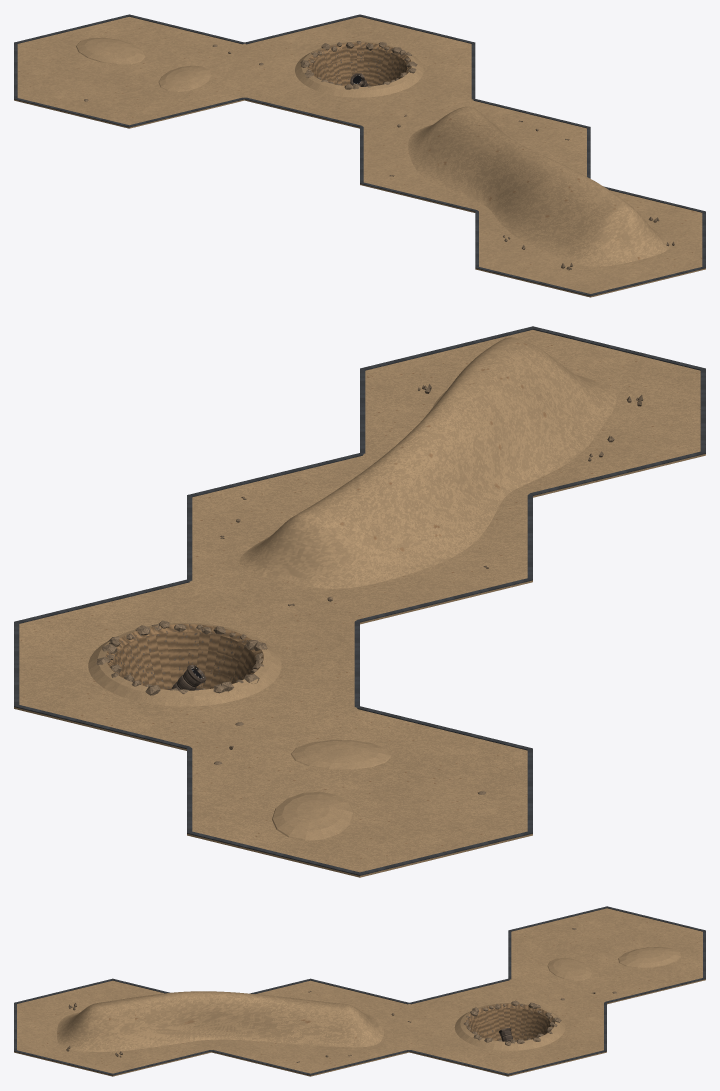
File: WasteHex_Snake.glb
3 views of the same model, one above another, from view 1: azimuth 30°, elevation 25°; view 2: azimuth 150°, elevation 25°; view 3: azimuth 270°, elevation 25° (orthographic). The views are drawn at different scales.
Parts seen in each view (by area): view 1: WasteHex_Snake_Ground, WasteHex_Snake_Prop_WasteO, WasteHex_Snake_GroundTrim, WasteHex_Snake_Prop_PitWall, WasteHex_Snake_Prop_Drift, WasteHex_Snake_Prop_PitRim, WasteHex_Snake_Prop_Rock; view 2: WasteHex_Snake_Ground, WasteHex_Snake_Prop_WasteO, WasteHex_Snake_GroundTrim, WasteHex_Snake_Prop_PitWall, WasteHex_Snake_Prop_Drift, WasteHex_Snake_Prop_PitRim, WasteHex_Snake_Prop_Rock; view 3: WasteHex_Snake_Ground, WasteHex_Snake_Prop_WasteO, WasteHex_Snake_GroundTrim, WasteHex_Snake_Prop_PitWall, WasteHex_Snake_Prop_Drift, WasteHex_Snake_Prop_PitRim, WasteHex_Snake_Prop_Rock.
Part boxes in pixels (x1,y1,x2,y2): WasteHex_Snake_Ground: (14, 16, 705, 297); WasteHex_Snake_Prop_WasteO: (408, 106, 669, 266); WasteHex_Snake_GroundTrim: (14, 14, 705, 296); WasteHex_Snake_Prop_PitWall: (307, 42, 411, 86); WasteHex_Snake_Prop_Drift: (76, 37, 211, 91); WasteHex_Snake_Prop_PitRim: (295, 41, 423, 97); WasteHex_Snake_Prop_Rock: (300, 41, 417, 89); WasteHex_Snake_Ground: (14, 330, 705, 877); WasteHex_Snake_Prop_WasteO: (239, 337, 616, 588); WasteHex_Snake_GroundTrim: (14, 326, 705, 875); WasteHex_Snake_Prop_PitWall: (106, 624, 263, 689); WasteHex_Snake_Prop_Drift: (272, 740, 391, 840); WasteHex_Snake_Prop_PitRim: (88, 623, 281, 706); WasteHex_Snake_Prop_Rock: (96, 620, 267, 695); WasteHex_Snake_Ground: (14, 908, 705, 1076); WasteHex_Snake_Prop_WasteO: (57, 991, 383, 1051); WasteHex_Snake_GroundTrim: (14, 906, 705, 1075); WasteHex_Snake_Prop_PitWall: (465, 1003, 554, 1040); WasteHex_Snake_Prop_Drift: (547, 947, 681, 980); WasteHex_Snake_Prop_PitRim: (454, 1003, 565, 1050); WasteHex_Snake_Prop_Rock: (463, 1000, 561, 1045).
Size of the model in its own units: 21 by 4.02 by 36.37.
Materials: 10 (10 with a texture image).
